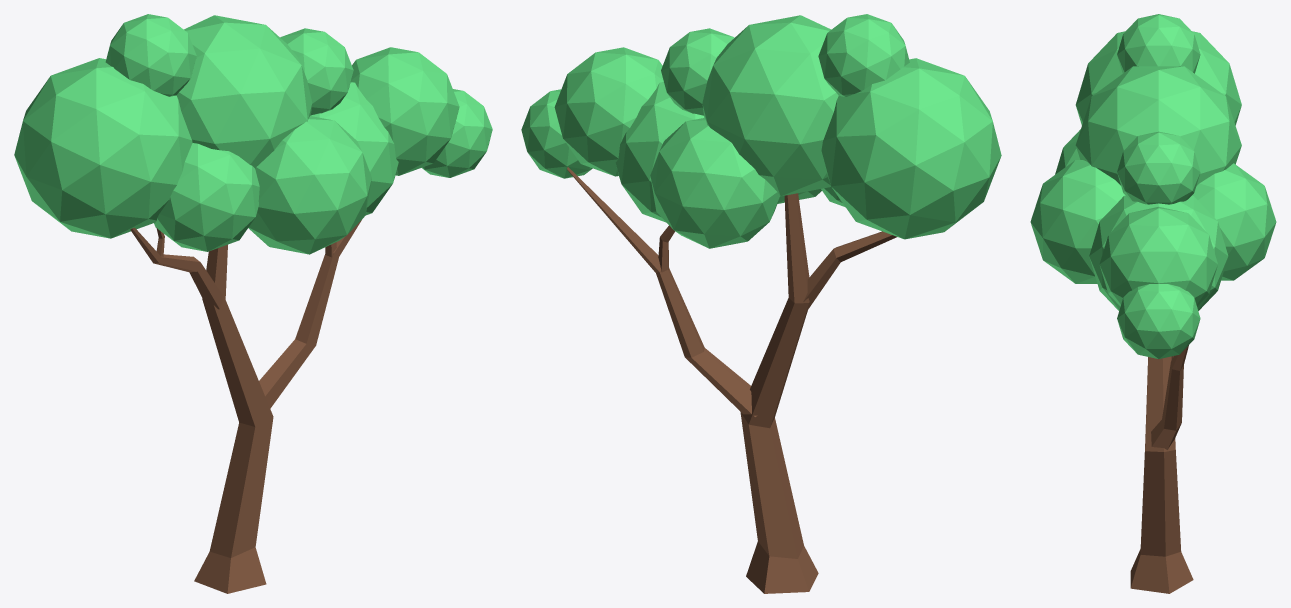
Rendered from tree_h_1.fbx.
3 views of the same model, side by side, from view 1: azimuth 30°, elevation 25°; view 2: azimuth 150°, elevation 25°; view 3: azimuth 270°, elevation 25° (orthographic). The views are drawn at different scales.
Parts seen in each view (by area): view 1: tree_height; view 2: tree_height; view 3: tree_height.
Part boxes in pixels (box(x1,y1,x2,y2)): tree_height: box(14, 14, 492, 593); tree_height: box(521, 14, 1001, 593); tree_height: box(1030, 14, 1276, 593).
Bounding box in the file's own units: 573 × 689 × 291.
